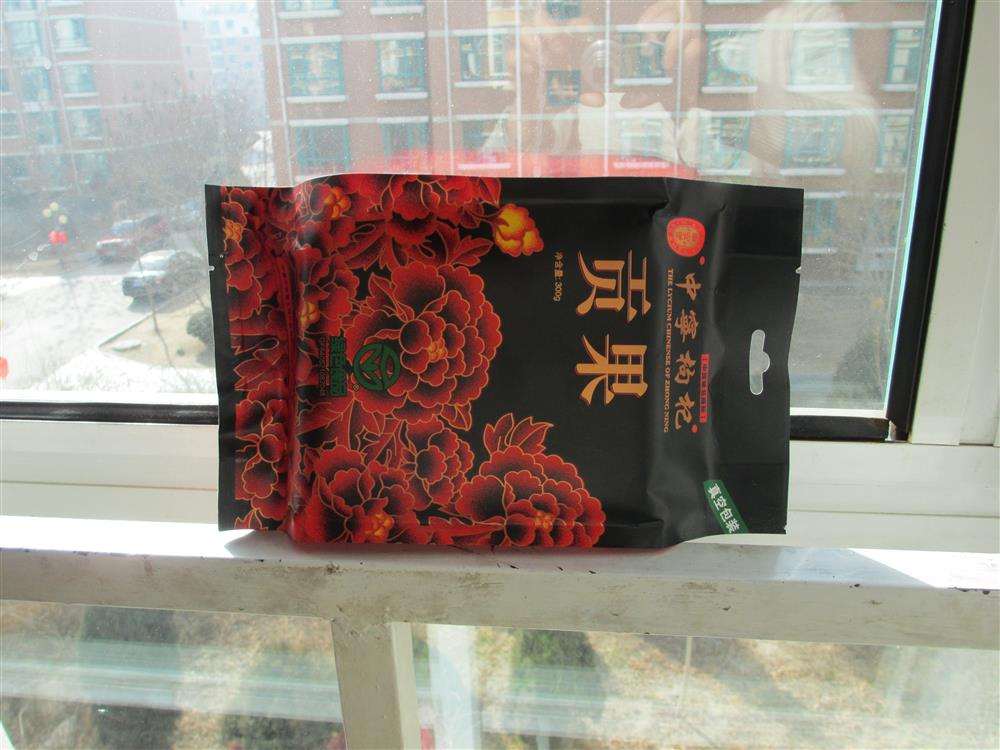Lycium_chinensis: (198, 171, 808, 557)
